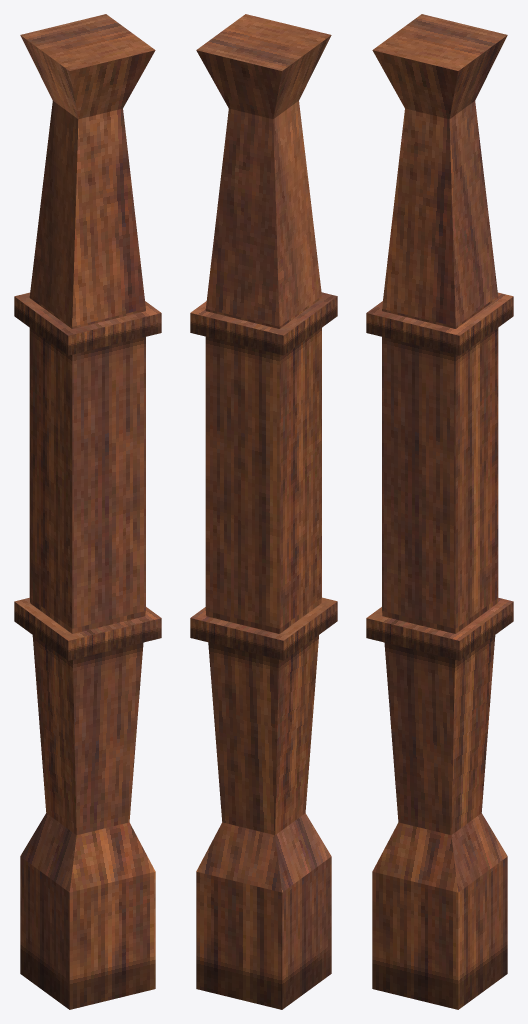
File: pillar0.glb
3 views of the same model, side by side, from view 1: azimuth 30°, elevation 25°; view 2: azimuth 150°, elevation 25°; view 3: azimuth 330°, elevation 25° (orthographic).
Visible parts, largest first — view 1: pillar0; view 2: pillar0; view 3: pillar0.
Boxes of the visible parts, x1,y1,x2,y2 form: pillar0: [14, 14, 161, 1009]; pillar0: [190, 14, 337, 1009]; pillar0: [366, 14, 513, 1009].
Bounding box in the file's own units: 0.25 × 2.4 × 0.25.
1 material, 1 textured.
